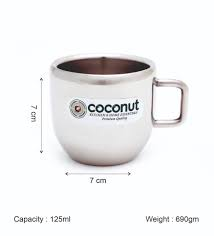mug: (44, 35, 192, 200)
